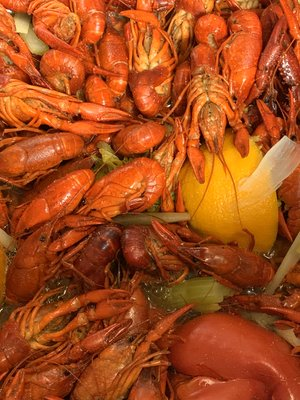pizza: (9, 169, 96, 237)
